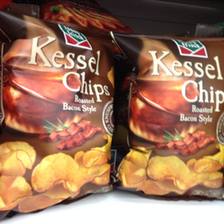chips: (1, 14, 117, 218), (122, 31, 224, 195)
